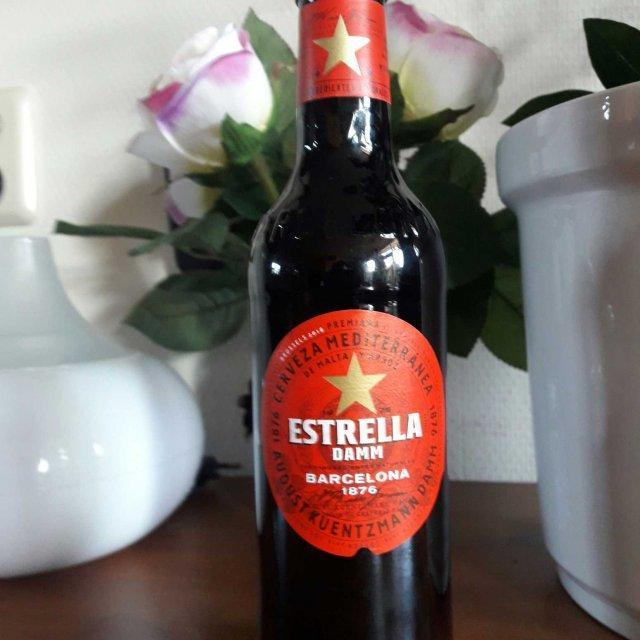Glass: (248, 0, 453, 640)
